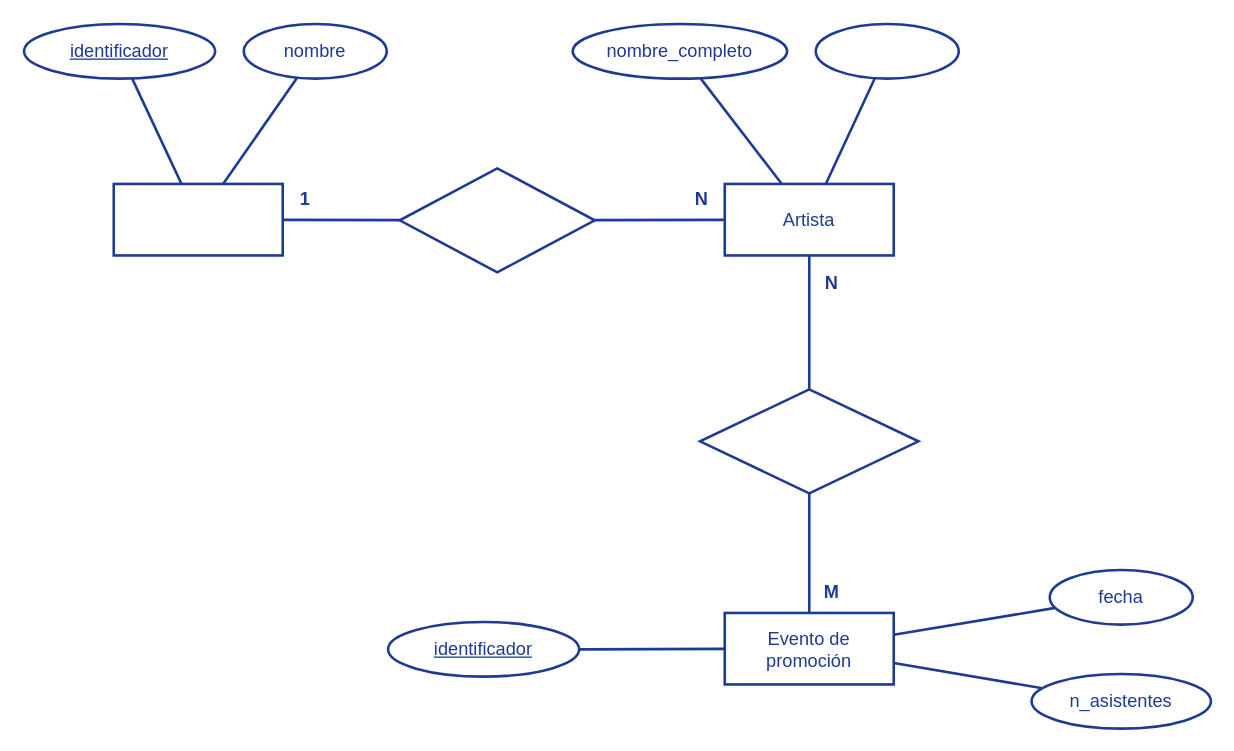
The diagram is 1234 pixels wide and 751 high, and some of its shapes have lost their labels. Each missing label, with the box of its shape:
Manager: (112, 182, 283, 256)
NIF: (814, 22, 959, 79)
participa en: (698, 387, 919, 494)
representa: (398, 166, 595, 273)
